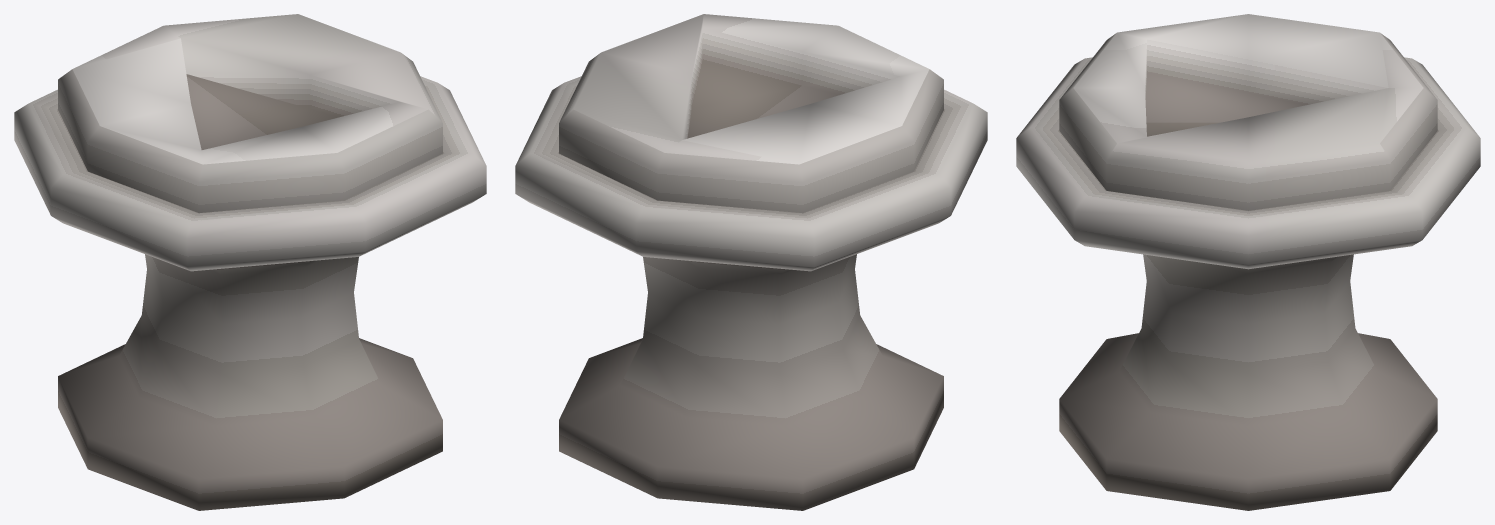
The model's file is DL_Obj_Level5_AltarTriangle.fbx.
The picture shows the model from 3 angles, left to right: view 1: azimuth 30°, elevation 25°; view 2: azimuth 150°, elevation 25°; view 3: azimuth 270°, elevation 25°; orthographic projection.
Parts seen in each view (by area): view 1: Level5_AltarTriangle; view 2: Level5_AltarTriangle; view 3: Level5_AltarTriangle.
Part boxes in pixels (x1,y1,x2,y2): Level5_AltarTriangle: [14, 14, 486, 510]; Level5_AltarTriangle: [515, 14, 987, 510]; Level5_AltarTriangle: [1016, 14, 1480, 510].
Size of the model in its own units: 123 by 100 by 123.
